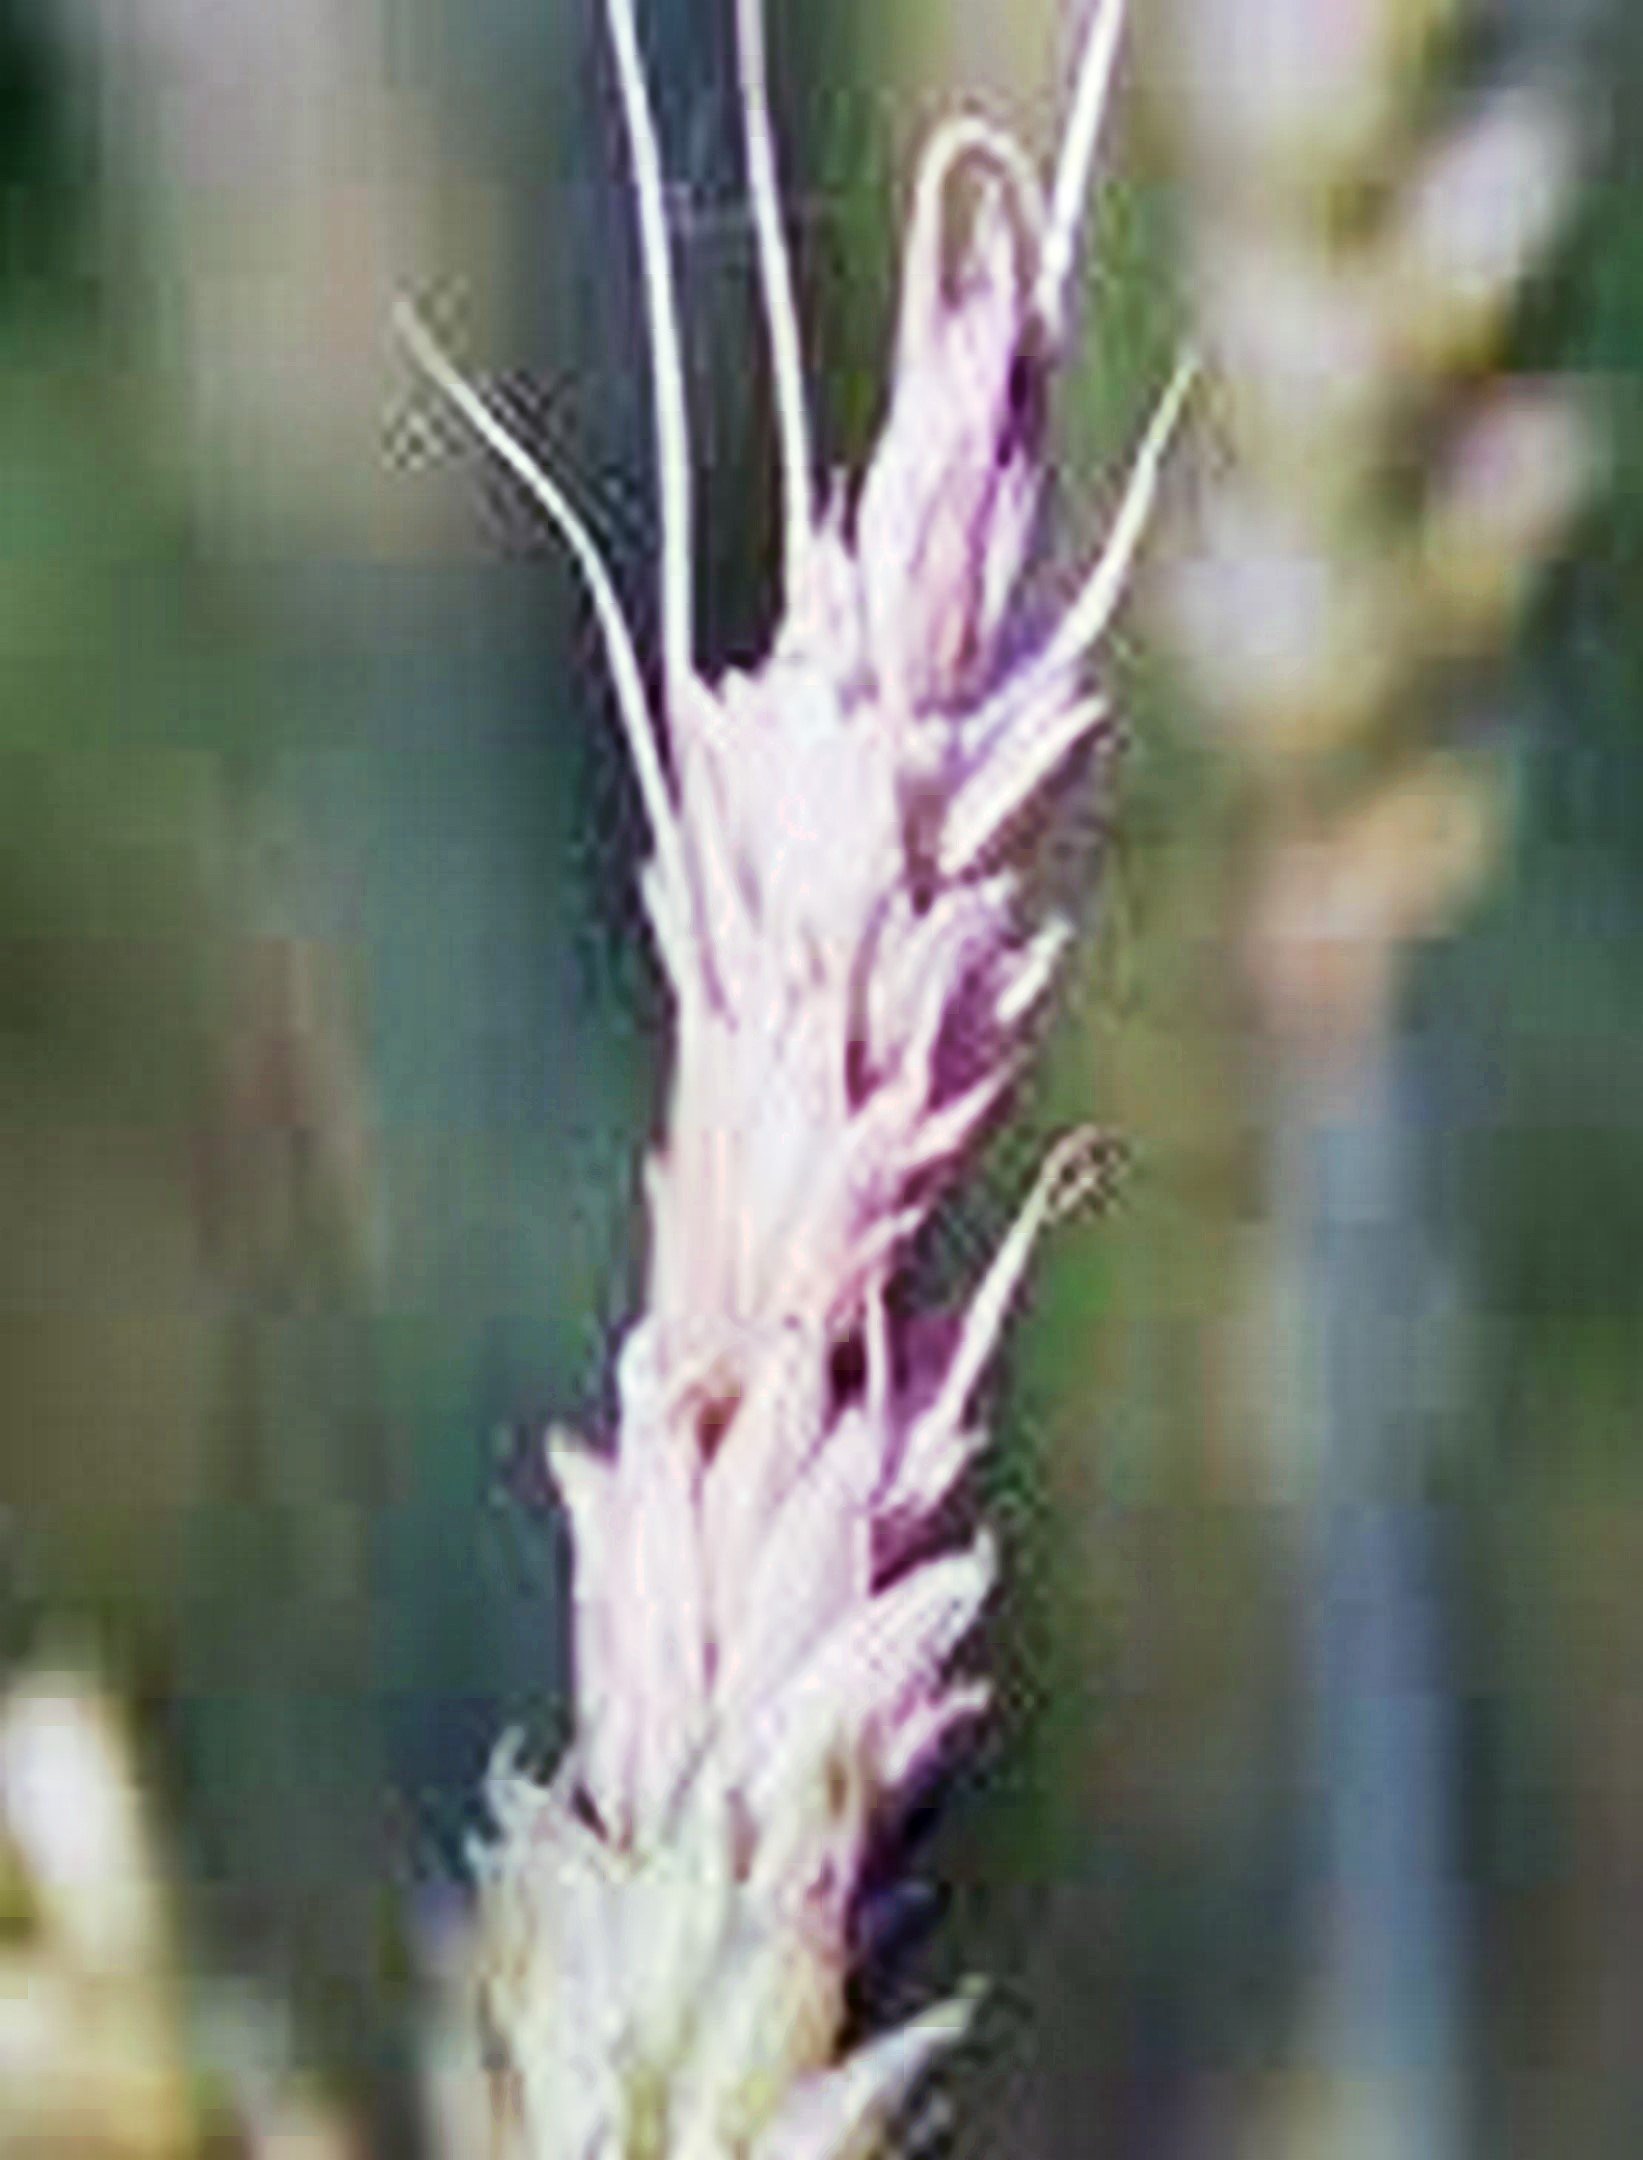Wheat scab: (459, 97, 1161, 2153)
